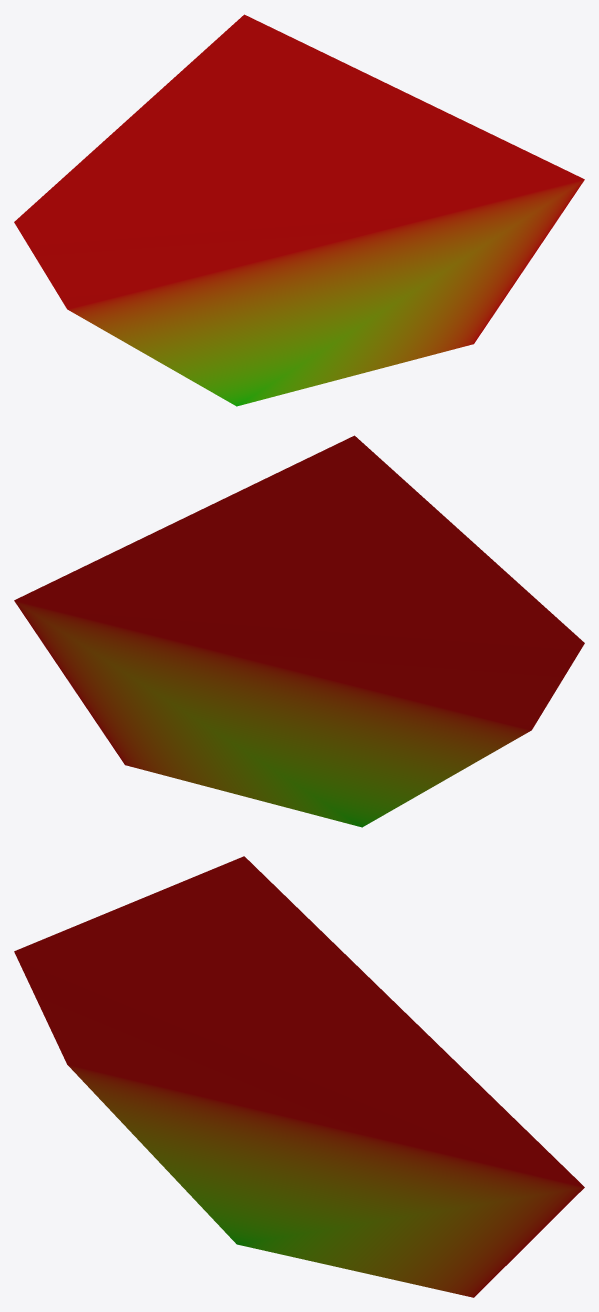
File: Small Balsam_LOD6_Var5_xefmcgrqx.fbx
The picture shows the model from 3 angles, top to bottom: view 1: azimuth 30°, elevation 25°; view 2: azimuth 150°, elevation 25°; view 3: azimuth 330°, elevation 25°; orthographic projection.
Parts seen in each view (by area): view 1: _s1vq_Var5_LOD6; view 2: _s1vq_Var5_LOD6; view 3: _s1vq_Var5_LOD6.
Boxes of the visible parts, x1,y1,x2,y2 form: _s1vq_Var5_LOD6: [14, 14, 584, 406]; _s1vq_Var5_LOD6: [14, 435, 584, 827]; _s1vq_Var5_LOD6: [14, 856, 584, 1297].
Bounding box in the file's own units: 68.05 × 44.44 × 1.65e-06.
